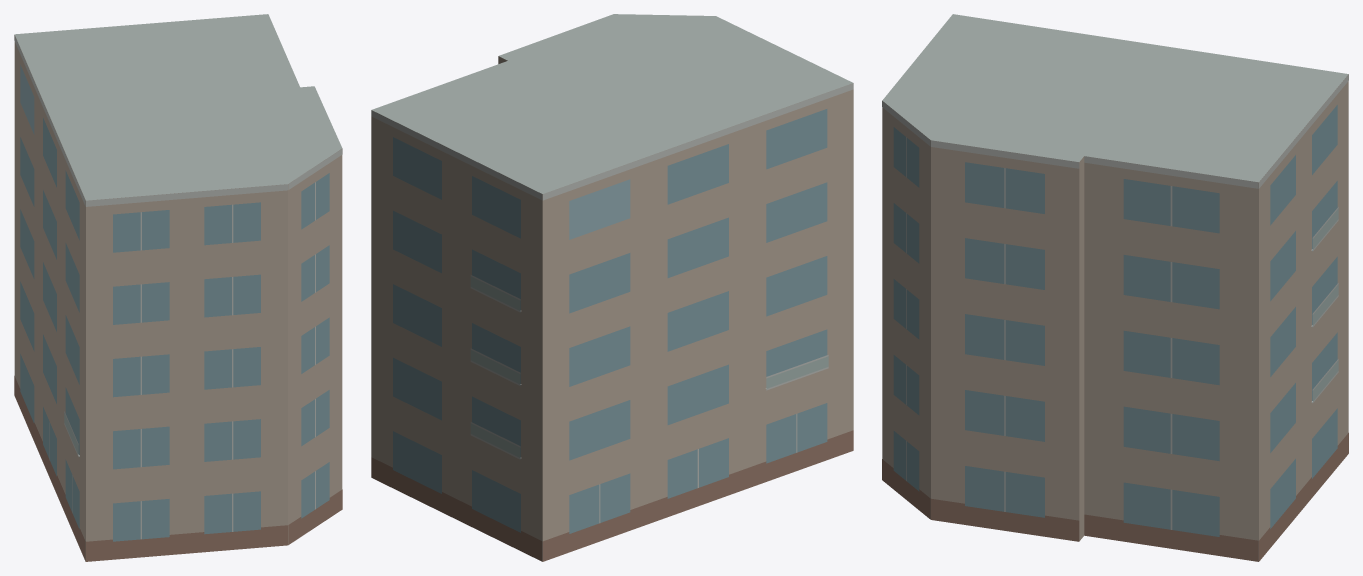
Rendered from survey-upis-32854343.glb.
3 views of the same model, side by side, from view 1: azimuth 30°, elevation 25°; view 2: azimuth 150°, elevation 25°; view 3: azimuth 270°, elevation 25° (orthographic). The views are drawn at different scales.
Parts seen in each view (by area): view 1: survey-upis-32854343.tmp; view 2: survey-upis-32854343.tmp; view 3: survey-upis-32854343.tmp.
Part boxes in pixels (left/top/right/bottom): survey-upis-32854343.tmp: left=14, top=14, right=342, bottom=561; survey-upis-32854343.tmp: left=371, top=14, right=853, bottom=561; survey-upis-32854343.tmp: left=882, top=14, right=1348, bottom=561.
Size of the model in its own units: 13.32 by 14 by 15.6.
